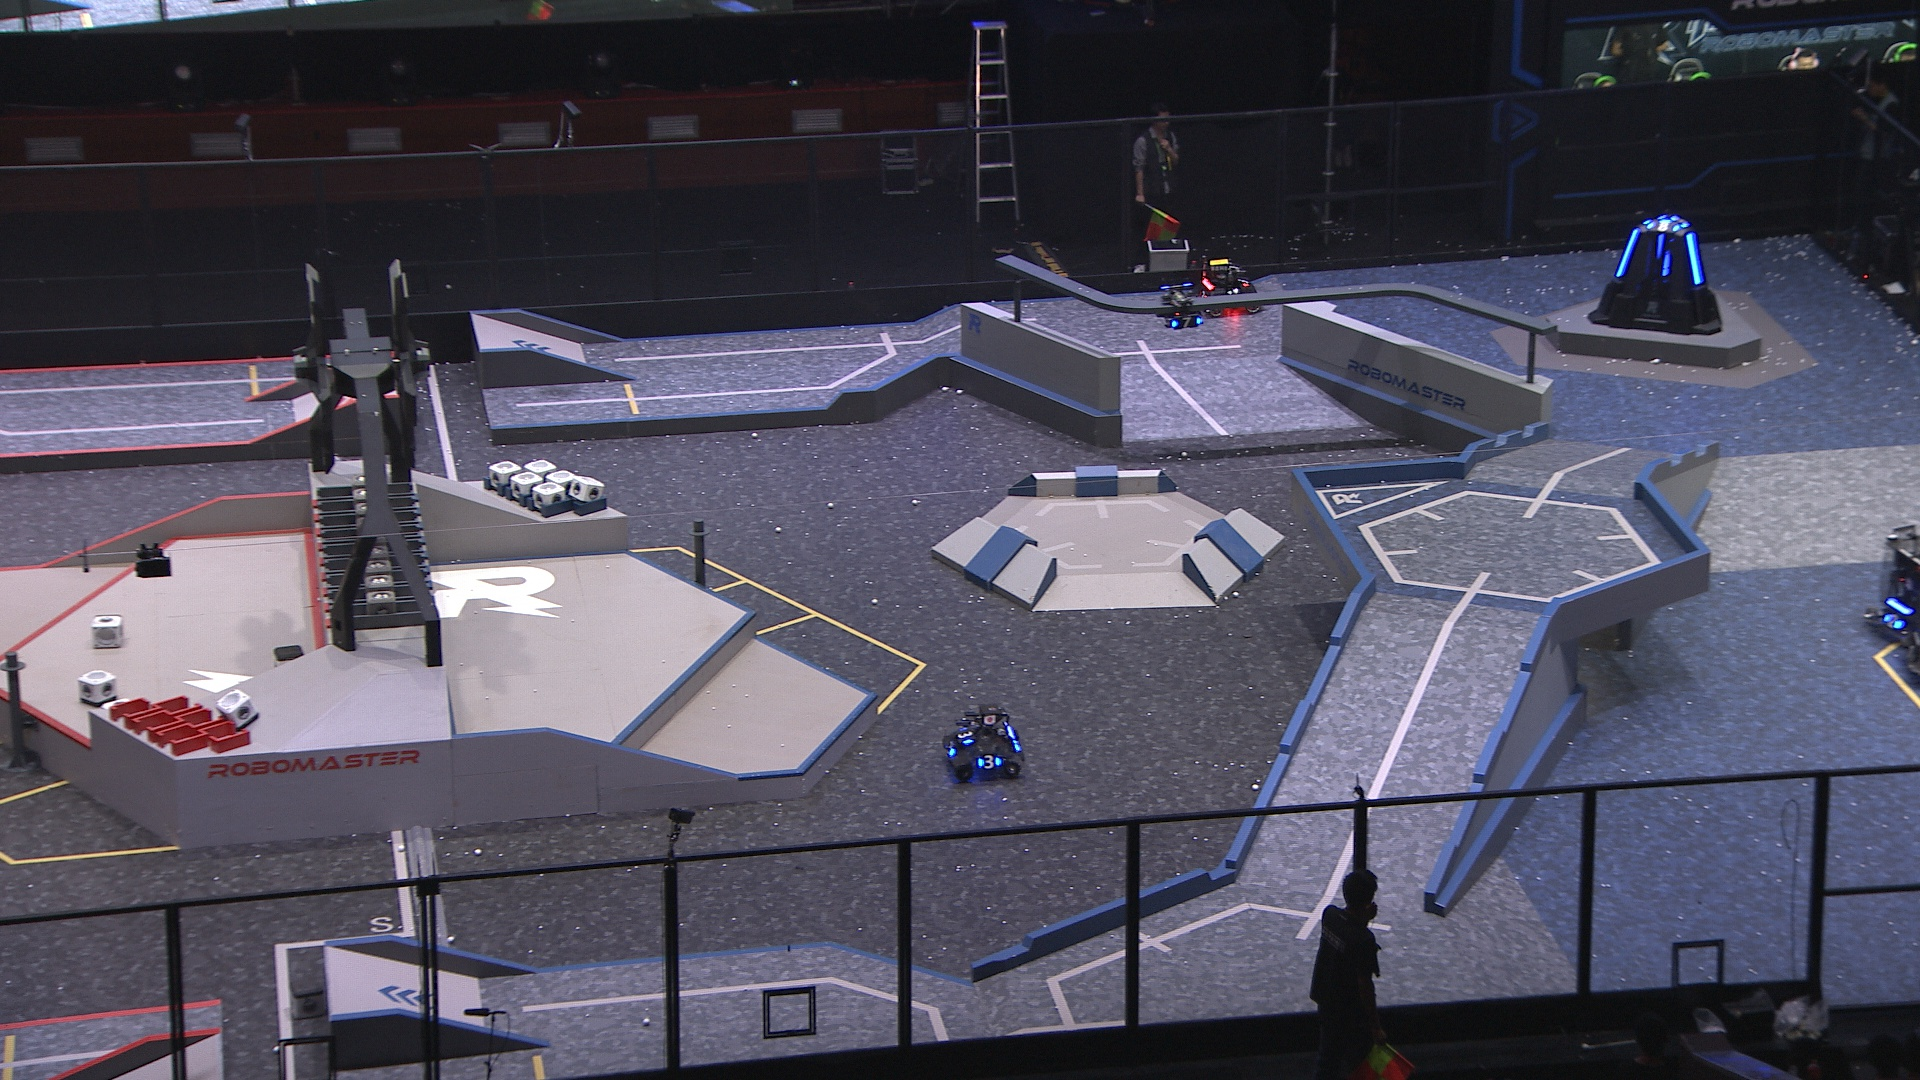armor: (1614, 225, 1640, 278), (1684, 232, 1705, 287), (975, 752, 1002, 771), (1168, 314, 1203, 330), (1646, 220, 1680, 233), (1880, 612, 1904, 629), (955, 727, 975, 744), (1660, 252, 1673, 276), (1654, 233, 1665, 258), (942, 740, 956, 757), (1237, 273, 1250, 290)
base: (1588, 214, 1724, 334)
car: (1865, 522, 1920, 654), (939, 699, 1022, 781), (1197, 257, 1265, 318)
watcher: (1158, 282, 1209, 330)
